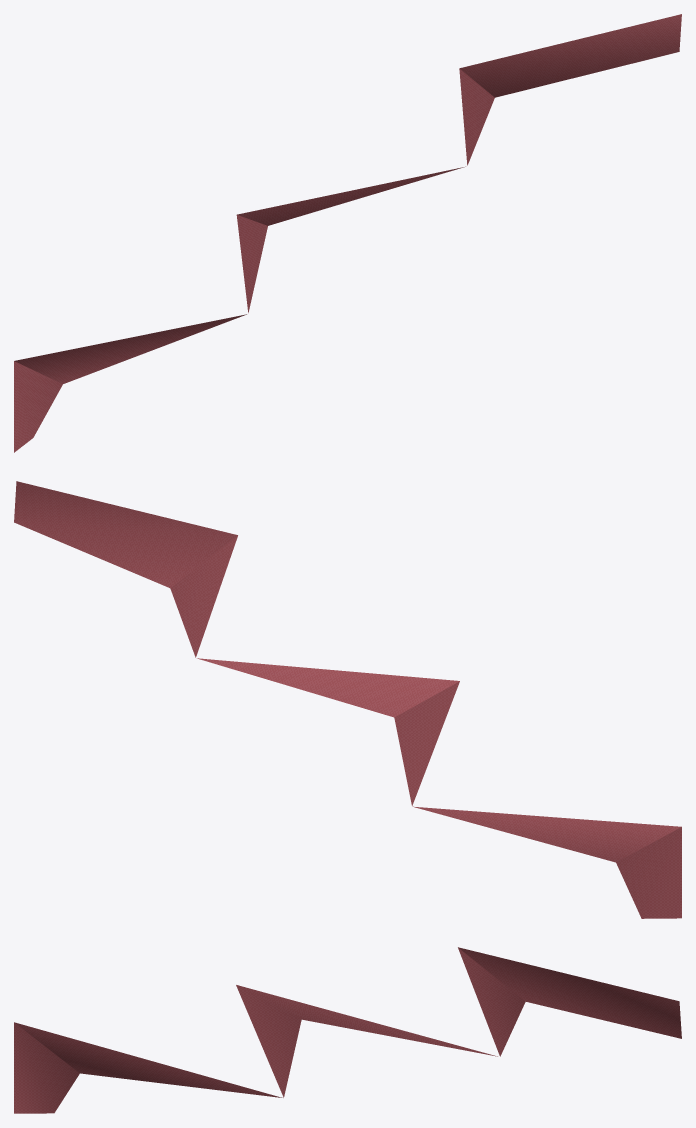
The model's file is kd_stage_135d18_4_71_bounded_piece_1.glb.
3 renders of one model, top to bottom at view 1: azimuth 30°, elevation 25°; view 2: azimuth 150°, elevation 25°; view 3: azimuth 330°, elevation 25°, orthographic.
Visible parts, largest first — view 1: kd_stage_135d18_4_71_bounded_piece_1; view 2: kd_stage_135d18_4_71_bounded_piece_1; view 3: kd_stage_135d18_4_71_bounded_piece_1.
Part boxes in pixels (bbox=[...]): kd_stage_135d18_4_71_bounded_piece_1: bbox=[14, 14, 681, 452]; kd_stage_135d18_4_71_bounded_piece_1: bbox=[14, 481, 681, 918]; kd_stage_135d18_4_71_bounded_piece_1: bbox=[14, 947, 681, 1113].
Bounding box in the file's own units: 1.14 × 0.45 × 0.054.
Materials: 1 (1 with a texture image).
